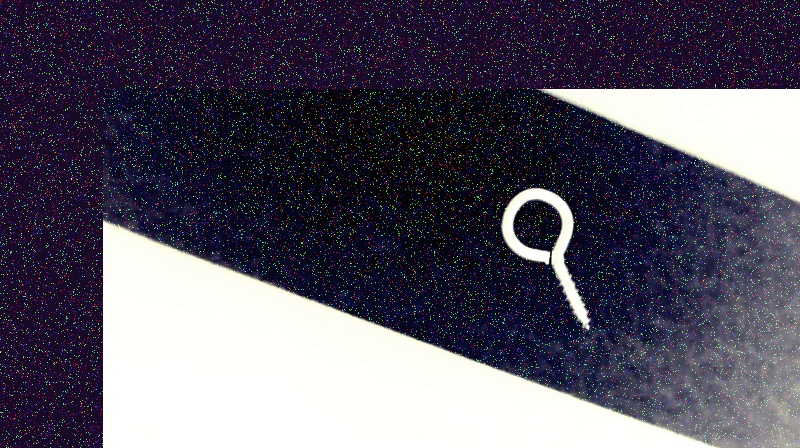O001: (495, 185, 594, 334)
